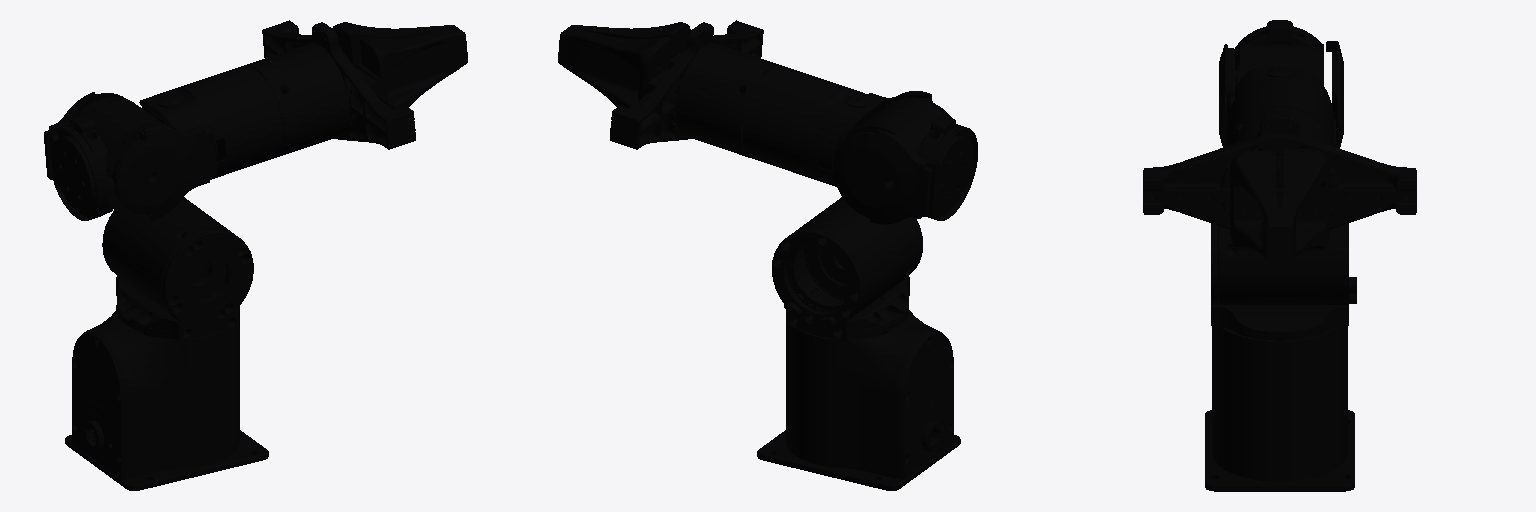
URDF robot description (piper):
<?xml version='1.0' encoding='UTF-8'?>
<!-- This URDF was automatically created by SolidWorks to URDF Exporter! Originally created by
Stephen Brawner (brawner@gmail.com) 
     Commit Version: 1.6.0-4-g7f85cfe  Build Version: 1.6.7995.38578
     For more information, please see http://wiki.ros.org/sw_urdf_exporter --><robot name="piper">
  <link name="base_link">
    <inertial>
      <origin xyz="-0.00473641164191482 2.56829134630247E-05 0.041451518036016" rpy="0 0 0"/>
      <mass value="1.02"/>
      <inertia ixx="0.00267433" ixy="-0.00000073" ixz="-0.00017389" iyy="0.00282612" iyz="0.0000004" izz="0.00089624"/>
    </inertial>
    <visual>
      <origin xyz="0 0 0" rpy="0 0 0"/>
      <geometry>
        <mesh filename="package://piper_description/meshes/dae/base_link.dae"/>
      </geometry>
      </visual>
    <collision>
      <origin xyz="0 0 0" rpy="0 0 0"/>
      <geometry>
        <mesh filename="package://piper_description/meshes/base_link.STL"/>
      </geometry>
    </collision>
  </link>
  <link name="link1">
    <inertial>
      <origin xyz="0.000121504734057468 0.000104632162460536 -0.00438597309559853" rpy="0 0 0"/>
      <mass value="0.71"/>
      <inertia ixx="0.00048916" ixy="-0.00000036" ixz="-0.00000224" iyy="0.00040472" iyz="-0.00000242" izz="0.00043982"/>
    </inertial>
    <visual>
      <origin xyz="0 0 0" rpy="0 0 0"/>
      <geometry>
        <mesh filename="package://piper_description/meshes/dae/link1.dae"/>
      </geometry>
      </visual>
    <collision>
      <origin xyz="0 0 0" rpy="0 0 0"/>
      <geometry>
        <mesh filename="package://piper_description/meshes/link1.STL"/>
      </geometry>
    </collision>
  </link>
  <joint name="joint1" type="revolute">
    <origin xyz="0 0 0.123" rpy="0 0 0"/>
    <parent link="base_link"/>
    <child link="link1"/>
    <axis xyz="0 0 1"/>
    <limit lower="-3.618" upper="3.168" effort="100" velocity="5"/>
  </joint>
  <link name="link2">
    <inertial>
      <origin xyz="0.198666145229743 -0.010926924140076 0.00142121714502687" rpy="0 0 0"/>
      <mass value="1.17"/>
      <inertia ixx="0.00116918" ixy="-0.00180037" ixz="0.00025146" iyy="0.06785384" iyz="-0.00000455" izz="0.06774489"/>
    </inertial>
    <visual>
      <origin xyz="0 0 0" rpy="0 0 0"/>
      <geometry>
        <mesh filename="package://piper_description/meshes/dae/link2.dae"/>
      </geometry>
      </visual>
    <collision>
      <origin xyz="0 0 0" rpy="0 0 0"/>
      <geometry>
        <mesh filename="package://piper_description/meshes/link2.STL"/>
      </geometry>
    </collision>
  </link>
  <joint name="joint2" type="revolute">
    <origin xyz="0 0 0" rpy="1.5708 -0.10095 -3.1416"/>
    <parent link="link1"/>
    <child link="link2"/>
    <axis xyz="0 0 1"/>
    <limit lower="0" upper="3.14" effort="100" velocity="5"/>
  </joint>
  <link name="link3">
    <inertial>
      <origin xyz="-0.0202737662122021 -0.133914995944595 -0.000458682652737356" rpy="0 0 0"/>
      <mass value="0.5"/>
      <inertia ixx="0.01361711" ixy="0.00165794" ixz="-0.00000048" iyy="0.00045024" iyz="-0.00000045" izz="0.01380322"/>
    </inertial>
    <visual>
      <origin xyz="0 0 0" rpy="0 0 0"/>
      <geometry>
        <mesh filename="package://piper_description/meshes/dae/link3.dae"/>
      </geometry>
      </visual>
    <collision>
      <origin xyz="0 0 0" rpy="0 0 0"/>
      <geometry>
        <mesh filename="package://piper_description/meshes/link3.STL"/>
      </geometry>
    </collision>
  </link>
  <joint name="joint3" type="revolute">
    <origin xyz="0.28503 0 0" rpy="0 0 -1.759"/>
    <parent link="link2"/>
    <child link="link3"/>
    <axis xyz="0 0 1"/>
    <limit lower="-2.967" upper="0" effort="100" velocity="5"/>
  </joint>
  <link name="link4">
    <inertial>
      <origin xyz="-9.66635791618542E-05 0.000876064475651083 -0.00496880904640868" rpy="0 0 0"/>
      <mass value="0.38"/>
      <inertia ixx="0.00018501" ixy="0.00000054" ixz="0.00000120" iyy="0.00018965" iyz="-0.00000841" izz="0.00015484"/>
    </inertial>
    <visual>
      <origin xyz="0 0 0" rpy="0 0 0"/>
      <geometry>
        <mesh filename="package://piper_description/meshes/dae/link4.dae"/>
      </geometry>
      </visual>
    <collision>
      <origin xyz="0 0 0" rpy="0 0 0"/>
      <geometry>
        <mesh filename="package://piper_description/meshes/link4.STL"/>
      </geometry>
    </collision>
  </link>
  <joint name="joint4" type="revolute">
    <origin xyz="-0.021984 -0.25075 0" rpy="1.5708 0 0"/>
    <parent link="link3"/>
    <child link="link4"/>
    <axis xyz="0 0 1"/>
    <limit lower="-3.745" upper="3.745" effort="100" velocity="5"/>
  </joint>
  <link name="link5">
    <inertial>
      <origin xyz="-4.10554118924211E-05 -0.0566486692356075 -0.0037205791677906" rpy="0 0 0"/>
      <mass value="0.383"/>
      <inertia ixx="0.00166169" ixy="0.00000006" ixz="-0.00000007" iyy="0.00018510" iyz="0.00001026" izz="0.00164321"/>
    </inertial>
    <visual>
      <origin xyz="0 0 0" rpy="0 0 0"/>
      <geometry>
        <mesh filename="package://piper_description/meshes/dae/link5.dae"/>
      </geometry>
      </visual>
    <collision>
      <origin xyz="0 0 0" rpy="0 0 0"/>
      <geometry>
        <mesh filename="package://piper_description/meshes/link5.STL"/>
      </geometry>
    </collision>
  </link>
  <joint name="joint5" type="revolute">
    <origin xyz="0 0 0" rpy="-1.5708 0 0"/>
    <parent link="link4"/>
    <child link="link5"/>
    <axis xyz="0 0 1"/>
    <limit lower="-3.22" upper="3.22" effort="100" velocity="5"/>
  </joint>
  <link name="link6">
    <inertial>
      <origin xyz="-8.82590762930069E-05 9.0598378529832E-06 -0.002" rpy="0 0 0"/>
      <mass value="0.00699089613564366"/>
      <inertia ixx="5.73015540542155E-07" ixy="-1.98305403089247E-22" ixz="-7.2791893904596E-23" iyy="5.73015540542155E-07" iyz="-3.4146026640245E-24" izz="1.06738869138926E-06"/>
    </inertial>
    <visual>
      <origin xyz="0 0 0" rpy="0 0 0"/>
      <geometry>
        <mesh filename="package://piper_description/meshes/dae/link6.dae"/>
      </geometry>
      </visual>
    <collision>
      <origin xyz="0 0 0" rpy="0 0 0"/>
      <geometry>
        <mesh filename="package://piper_description/meshes/link6.STL"/>
      </geometry>
    </collision>
  </link>
  <joint name="joint6" type="revolute">
    <origin xyz="8.8259E-05 -0.091 0" rpy="1.5708 0 0"/>
    <parent link="link5"/>
    <child link="link6"/>
    <axis xyz="0 0 1"/>
    <limit lower="-3.0944" upper="3.0944" effort="100" velocity="3"/>
  </joint>


  <link name="gripper_base">
    <inertial>
      <origin xyz="-0.000183807162235591 8.05033155577911E-05 0.0321436689908876" rpy="0 0 0"/>
      <mass value="0.45"/>
      <inertia ixx="0.00092934" ixy="0.00000034" ixz="-0.00000738" iyy="0.00071447" iyz="0.00000005" izz="0.00039442"/>
    </inertial>
    <visual>
      <origin xyz="0 0 0" rpy="0 0 0"/>
      <geometry>
        <mesh filename="package://piper_description/meshes/dae/gripper_base.dae"/>
      </geometry>
      </visual>
    <collision>
      <origin xyz="0 0 0" rpy="0 0 0"/>
      <geometry>
        <mesh filename="package://piper_description/meshes/gripper_base.STL"/>
      </geometry>
    </collision>
  </link>
  <joint name="joint6_to_gripper_base" type="fixed">
    <origin xyz="0 0 0" rpy="0 0 0"/>
    <parent link="link6"/>
    <child link="gripper_base"/>
  </joint>
  <link name="link7">
    <inertial>
      <origin xyz="0.00065123185041968 -0.0491929869131989 0.00972258769184025" rpy="0 0 0"/>
      <mass value="0.025"/>
      <inertia ixx="0.00007371" ixy="-0.00000113" ixz="0.00000021" iyy="-0.00000113" iyz="-0.00001372" izz="0.0000747"/>
    </inertial>
    <visual>
      <origin xyz="0 0 0" rpy="0 0 0"/>
      <geometry>
        <mesh filename="package://piper_description/meshes/dae/link7.dae"/>
      </geometry>
      </visual>
    <collision>
      <origin xyz="0 0 0" rpy="0 0 0"/>
      <geometry>
        <mesh filename="package://piper_description/meshes/link7.STL"/>
      </geometry>
    </collision>
  </link>
  <joint name="joint7" type="prismatic">
    <origin xyz="0 0 0.1358" rpy="1.5708 0 0"/>
    <parent link="gripper_base"/>
    <child link="link7"/>
    <axis xyz="0 0 1"/>
    <limit lower="0" upper="0.035" effort="10" velocity="1"/>
  </joint>
  <link name="link8">
    <inertial>
      <origin xyz="0.000651231850419722 -0.0491929869131991 0.00972258769184024" rpy="0 0 0"/>
      <mass value="0.025"/>
      <inertia ixx="0.00007371" ixy="-0.00000113" ixz="0.00000021" iyy="-0.00000113" iyz="-0.00001372" izz="0.0000747"/>
    </inertial>
    <visual>
      <origin xyz="0 0 0" rpy="0 0 0"/>
      <geometry>
        <mesh filename="package://piper_description/meshes/dae/link8.dae"/>
      </geometry>
      </visual>
    <collision>
      <origin xyz="0 0 0" rpy="0 0 0"/>
      <geometry>
        <mesh filename="package://piper_description/meshes/link8.STL"/>
      </geometry>
    </collision>
  </link>
  <joint name="joint8" type="prismatic">
    <origin xyz="0 0 0.1358" rpy="1.5708 0 -3.1416"/>
    <parent link="gripper_base"/>
    <child link="link8"/>
    <axis xyz="0 0 -1"/>
    <limit lower="-0.035" upper="0" effort="10" velocity="1"/>
  </joint>
</robot>

--- What the picture shows (computed from the rendered views, not written in the file) ---
Views: 3 orthographic renders of the robot side by side, from view 1: azimuth 30°, elevation 25°; view 2: azimuth 150°, elevation 25°; view 3: azimuth 270°, elevation 25°.
Model piper with 10 links and 9 joints (6 revolute, 2 prismatic, 1 fixed), rooted at base_link, posed all joints at 0.
Links seen in each view (by area): view 1: base_link, link1, link5, gripper_base, link4, link7, link8; view 2: base_link, link1, link4, gripper_base, link5, link8, link7; view 3: base_link, gripper_base, link1, link5, link8, link7, link4.
Boxes of the visible links, x1,y1,x2,y2 form: base_link: (65,311,268,490); link1: (102,197,253,341); link5: (112,65,282,220); gripper_base: (244,20,415,157); link4: (44,92,163,220); link7: (356,29,467,107); link8: (332,22,458,68); base_link: (757,310,960,490); link1: (772,197,922,341); link4: (833,98,977,224); gripper_base: (610,20,781,157); link5: (743,65,951,186); link8: (558,29,671,107); link7: (567,22,690,68); base_link: (1205,326,1354,491); gripper_base: (1143,107,1416,229); link1: (1211,223,1356,340); link5: (1219,44,1333,146); link8: (1280,149,1329,261); link7: (1230,151,1279,261); link4: (1235,20,1343,147).
Size in the robot's own frame: 0.2651 by 0.145 by 0.2475 metres.
Meshes: 10 distinct files referenced, 8 mesh visuals loaded (8 Collada DAE); not drawn: 2 (reference not matched to a file when rendering).
